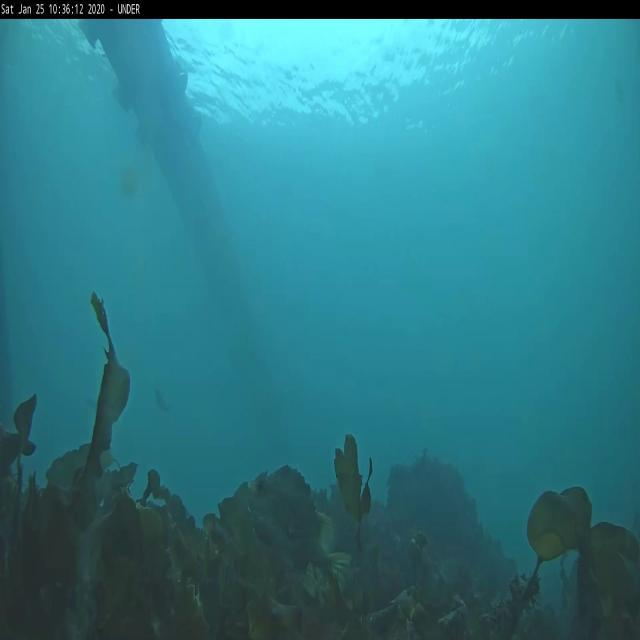fish: (253, 463, 349, 590), (150, 384, 173, 421)
